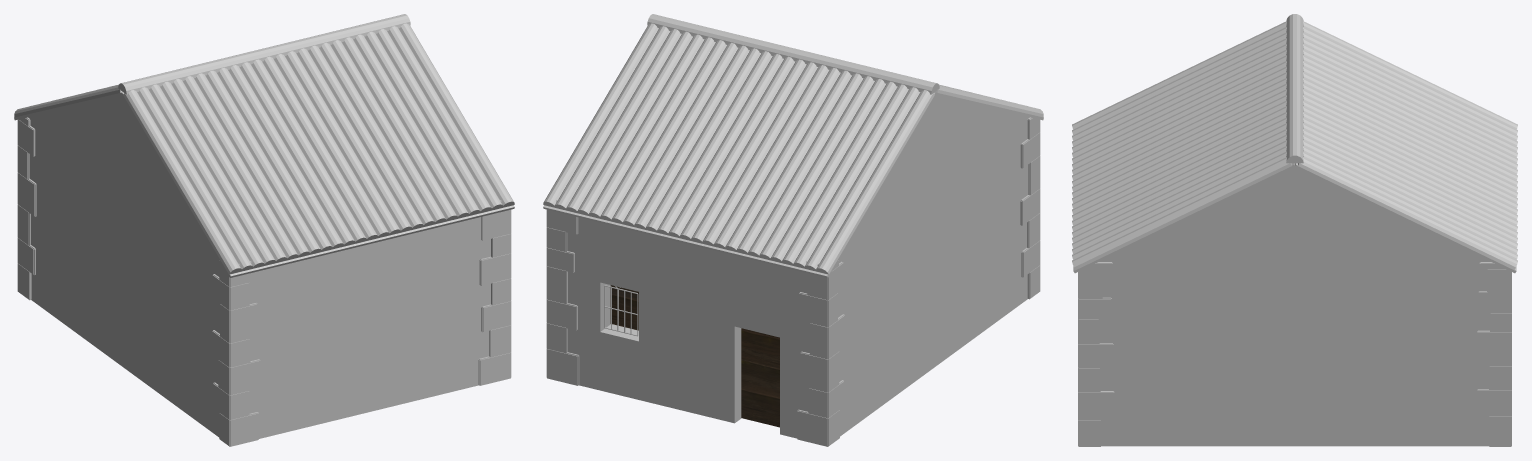
Rendered from casa_small_a.gltf.
The picture shows the model from 3 angles, left to right: view 1: azimuth 30°, elevation 25°; view 2: azimuth 150°, elevation 25°; view 3: azimuth 270°, elevation 25°; orthographic projection. The views are drawn at different scales.
Parts seen in each view (by area): view 1: casa_small_a_shell, casa_small_a_roof_tile_b_0, casa_small_a_roof_tile_b_10, casa_small_a_roof_tile_b_20, casa_small_a_roof_tile_b_9, casa_small_a_roof_tile_b_17, casa_small_a_roof_tile_b_24, casa_small_a_roof_tile_b_5, casa_small_a_roof_tile_b_6, casa_small_a_roof_tile_b_18, casa_small_a_roof_tile_b_23, casa_small_a_roof_tile_b_15 (+30 smaller); view 2: casa_small_a_shell, casa_small_a_front_door0, casa_small_a_roof_tile_a_24, casa_small_a_roof_tile_a_2, casa_small_a_roof_tile_a_4, casa_small_a_roof_tile_a_0, casa_small_a_roof_tile_a_11, casa_small_a_roof_tile_a_14, casa_small_a_roof_tile_a_16, casa_small_a_roof_tile_a_7, casa_small_a_roof_tile_a_8, casa_small_a_roof_tile_a_18 (+33 smaller); view 3: casa_small_a_shell, casa_small_a_roof_tile_a_0, casa_small_a_roof_tile_b_24, casa_small_a_roof_tile_a_2, casa_small_a_roof_tile_a_5, casa_small_a_roof_tile_a_8, casa_small_a_roof_tile_a_11, casa_small_a_roof_tile_a_14, casa_small_a_roof_tile_a_17, casa_small_a_roof_tile_a_20, casa_small_a_roof_tile_a_23, casa_small_a_roof_tile_b_1 (+53 smaller).
Part boxes in pixels (x1,y1,x2,y2): casa_small_a_shell: (14, 92, 514, 438); casa_small_a_roof_tile_b_0: (123, 90, 241, 274); casa_small_a_roof_tile_b_10: (239, 62, 355, 246); casa_small_a_roof_tile_b_20: (353, 34, 469, 218); casa_small_a_roof_tile_b_9: (228, 65, 344, 249); casa_small_a_roof_tile_b_17: (319, 42, 435, 227); casa_small_a_roof_tile_b_24: (399, 23, 514, 207); casa_small_a_roof_tile_b_5: (183, 76, 298, 260); casa_small_a_roof_tile_b_6: (194, 73, 310, 257); casa_small_a_roof_tile_b_18: (330, 40, 446, 224); casa_small_a_roof_tile_b_23: (387, 26, 503, 210); casa_small_a_roof_tile_b_15: (296, 48, 412, 232); casa_small_a_shell: (543, 92, 1043, 438); casa_small_a_front_door0: (741, 328, 779, 427); casa_small_a_roof_tile_a_24: (816, 90, 934, 274); casa_small_a_roof_tile_a_2: (566, 29, 681, 213); casa_small_a_roof_tile_a_4: (588, 34, 704, 218); casa_small_a_roof_tile_a_0: (543, 23, 658, 207); casa_small_a_roof_tile_a_11: (668, 54, 783, 238); casa_small_a_roof_tile_a_14: (702, 62, 818, 246); casa_small_a_roof_tile_a_16: (725, 67, 840, 252); casa_small_a_roof_tile_a_7: (622, 42, 738, 226); casa_small_a_roof_tile_a_8: (634, 45, 749, 229); casa_small_a_roof_tile_a_18: (748, 73, 863, 257); casa_small_a_shell: (1073, 163, 1516, 446); casa_small_a_roof_tile_a_0: (1298, 157, 1517, 270); casa_small_a_roof_tile_b_24: (1072, 157, 1291, 270); casa_small_a_roof_tile_a_2: (1303, 146, 1517, 253); casa_small_a_roof_tile_a_5: (1303, 129, 1517, 236); casa_small_a_roof_tile_a_8: (1303, 112, 1517, 219); casa_small_a_roof_tile_a_11: (1303, 95, 1517, 202); casa_small_a_roof_tile_a_14: (1303, 78, 1517, 185); casa_small_a_roof_tile_a_17: (1303, 61, 1517, 168); casa_small_a_roof_tile_a_20: (1303, 44, 1517, 151); casa_small_a_roof_tile_a_23: (1303, 27, 1517, 134); casa_small_a_roof_tile_b_1: (1072, 27, 1286, 134).
Bounding box in the file's own units: 6.64 × 6.35 × 8.78.
